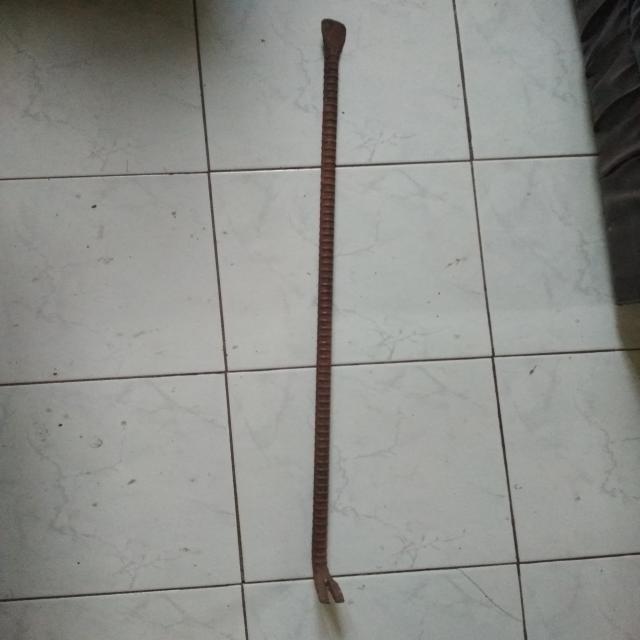Linggis: (309, 16, 360, 604)
